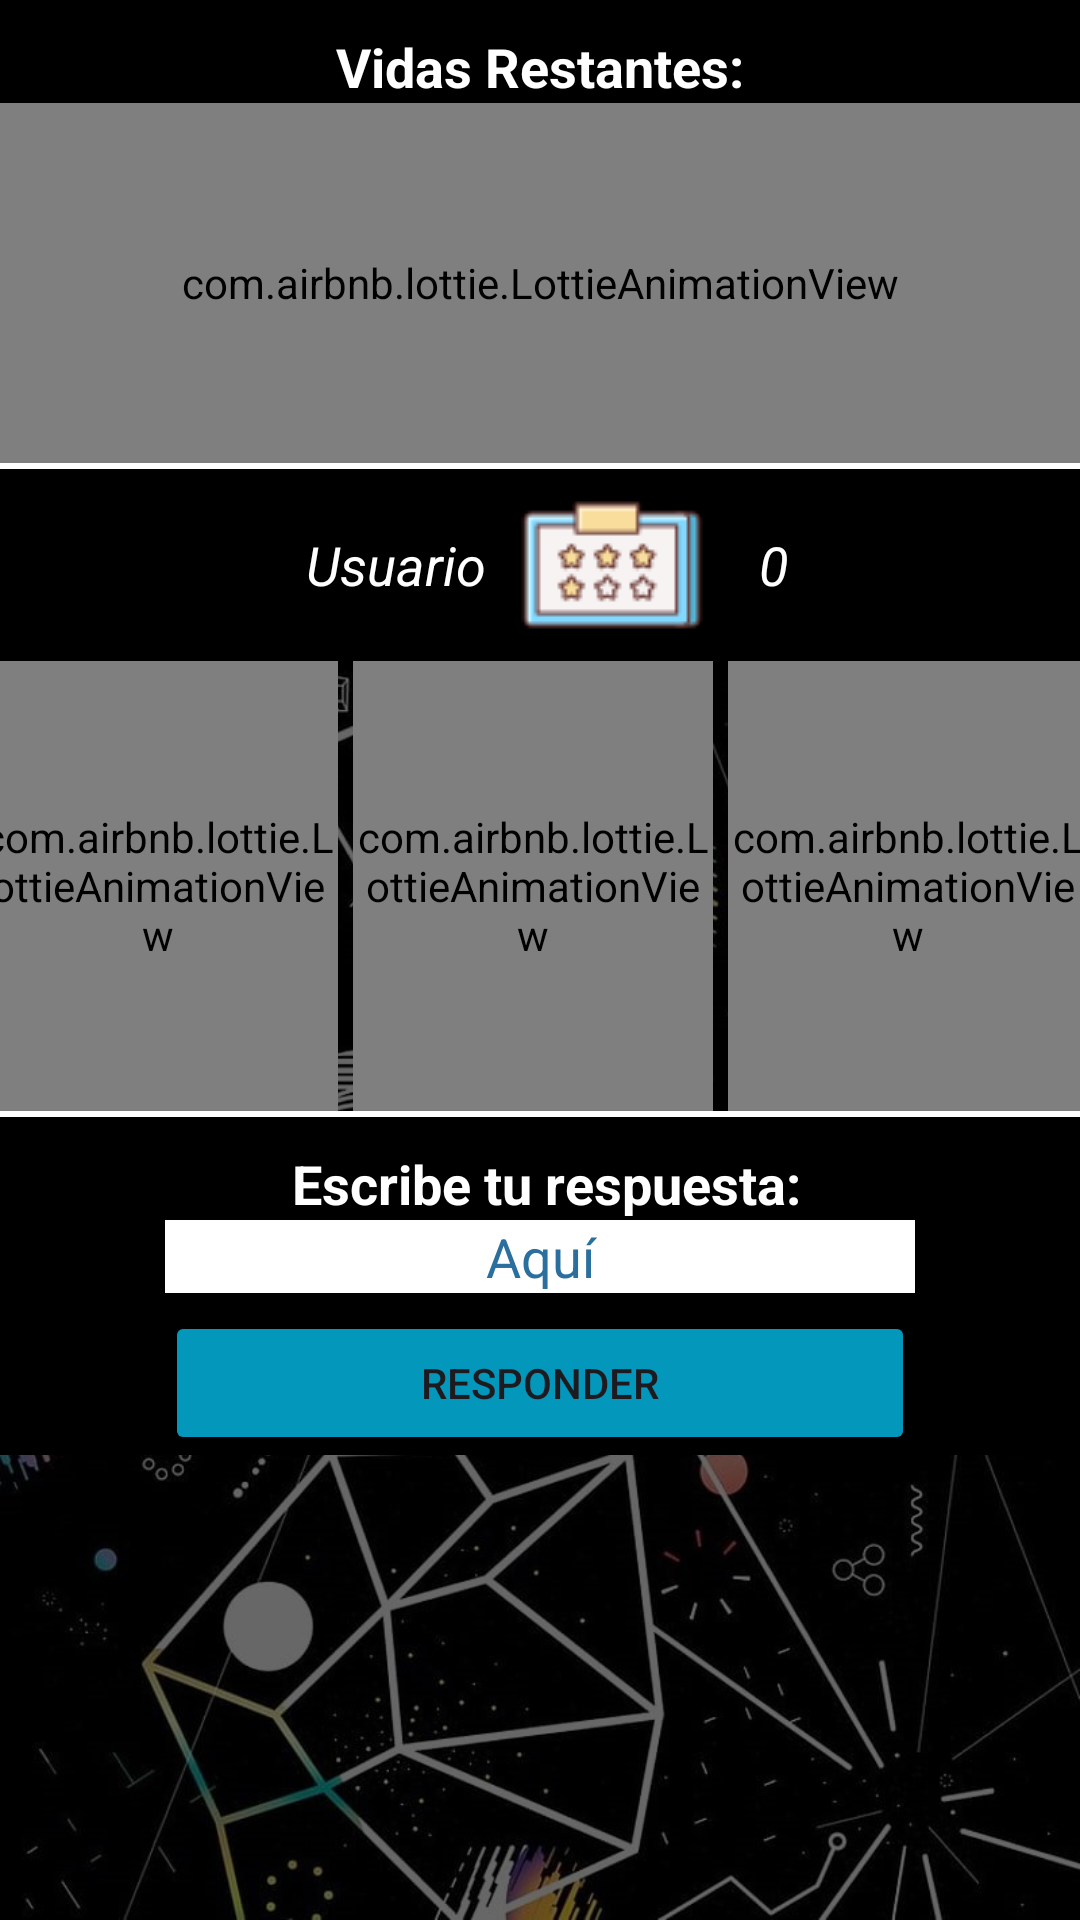

Screen size 1080w x 1920h. Icon name, then its box in pixels as (x1, y1, x2, y2):
score: (522, 501, 702, 629)
